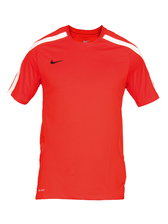clothoes: (7, 25, 161, 209)
